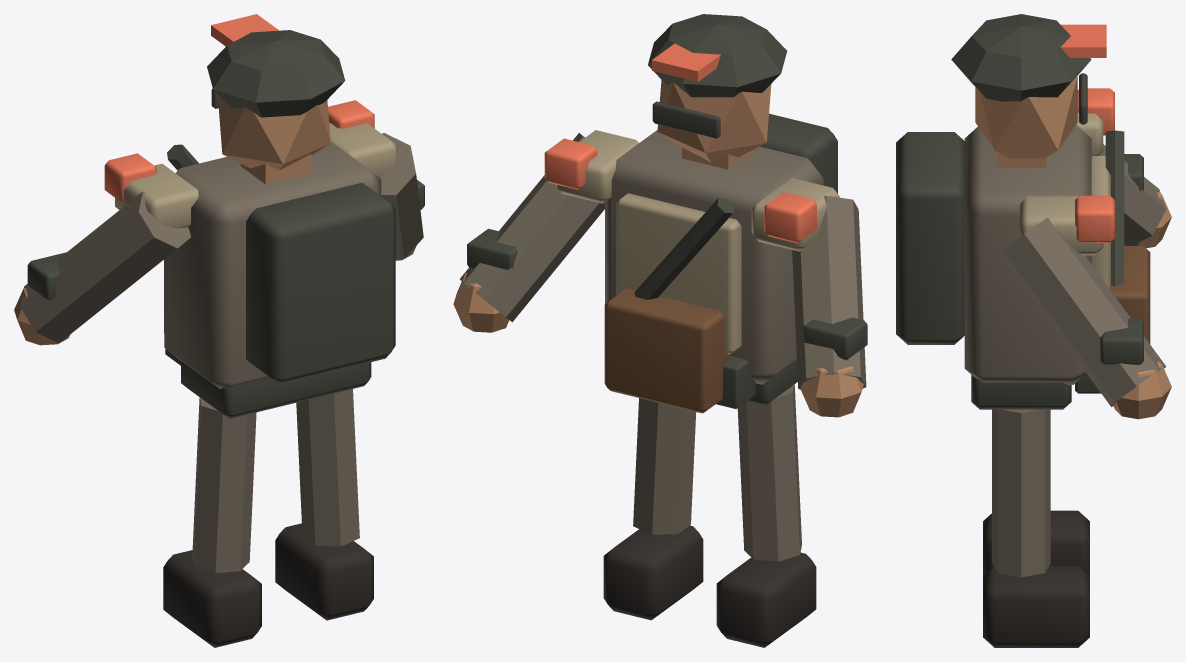
The model's file is enemy_charger.fbx.
3 views of the same model, side by side, from view 1: azimuth 30°, elevation 25°; view 2: azimuth 150°, elevation 25°; view 3: azimuth 270°, elevation 25° (orthographic).
Visible parts, largest first — view 1: backpack, torso tunic, L arm, L shin, light cap, R shin, L boot, R boot, head, belt, R arm, forward shoulder pad (+7 smaller); view 2: torso tunic, front satchel, front webbing, L shin, L arm, R arm, R shin, light cap, L boot, R boot, head, backpack (+13 smaller); view 3: torso tunic, backpack, R arm, R shin, light cap, R boot, head, belt, L boot, forward shoulder pad.001, front satchel, L arm (+12 smaller).
Boxes of the visible parts, x1,y1,x2,y2 form: backpack: [246, 182, 395, 384]; torso tunic: [164, 141, 381, 389]; L arm: [20, 191, 190, 343]; L shin: [192, 397, 256, 573]; light cap: [207, 30, 345, 117]; R shin: [296, 389, 359, 546]; L boot: [163, 550, 261, 647]; R boot: [275, 523, 373, 620]; head: [217, 94, 330, 170]; belt: [181, 361, 371, 418]; R arm: [380, 133, 423, 259]; forward shoulder pad: [115, 163, 198, 228]; torso tunic: [605, 130, 823, 384]; front satchel: [604, 288, 730, 413]; front webbing: [616, 193, 741, 354]; L shin: [737, 384, 801, 561]; L arm: [792, 195, 866, 389]; R arm: [460, 133, 604, 322]; R shin: [633, 398, 696, 534]; light cap: [648, 14, 787, 97]; L boot: [716, 552, 816, 647]; R boot: [603, 525, 703, 620]; head: [657, 80, 771, 162]; backpack: [760, 113, 837, 193]; torso tunic: [964, 124, 1091, 384]; backpack: [896, 132, 966, 344]; R arm: [999, 217, 1166, 406]; R shin: [992, 409, 1050, 577]; light cap: [951, 14, 1091, 101]; R boot: [983, 566, 1089, 647]; head: [975, 75, 1077, 158]; belt: [971, 375, 1071, 409]; L boot: [983, 510, 1089, 575]; forward shoulder pad.001: [1019, 196, 1103, 255]; front satchel: [1111, 246, 1150, 343]; L arm: [1099, 144, 1166, 245].
Size of the model in its own units: 140 by 193 by 82.5.
